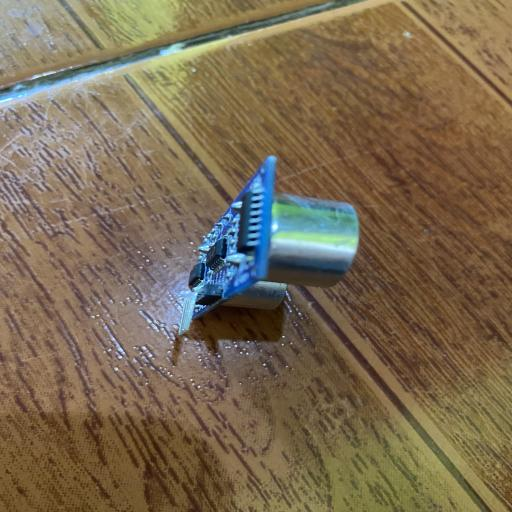Ultrasonic Sensor: (176, 154, 360, 337)
